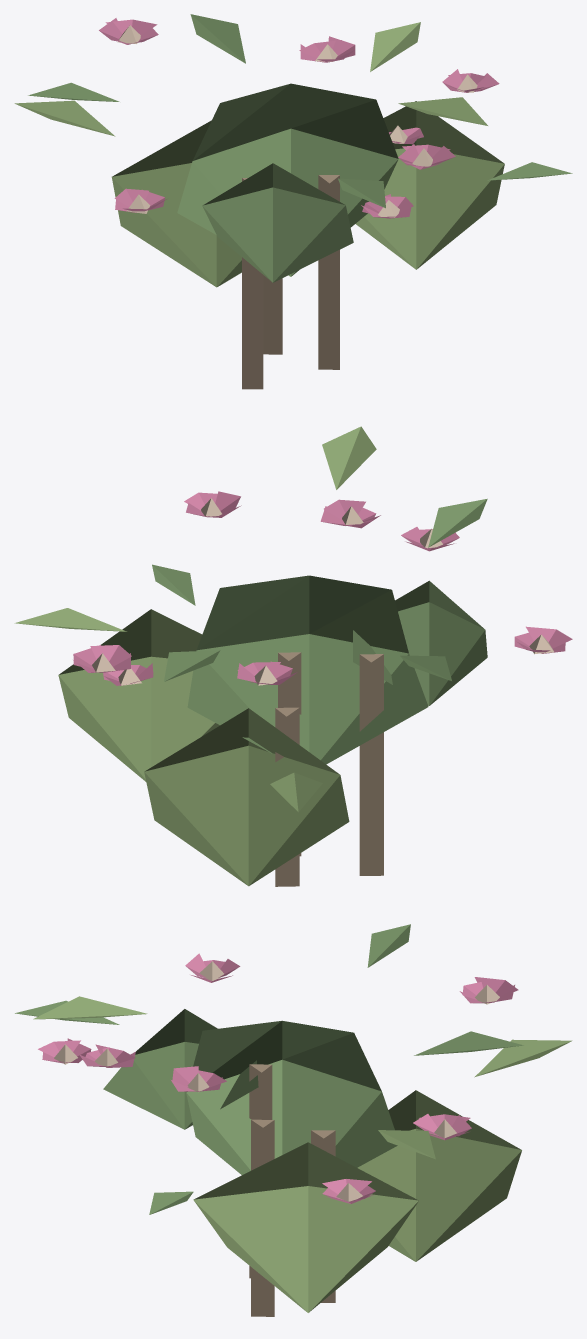
The model's file is guan.zhen@flowering__summer.glb.
The picture shows the model from 3 angles, top to bottom: view 1: azimuth 30°, elevation 25°; view 2: azimuth 150°, elevation 25°; view 3: azimuth 270°, elevation 25°; orthographic projection. The views are drawn at different scales.
Visible parts, largest first — view 1: guan.zhen@flowering__summer; view 2: guan.zhen@flowering__summer; view 3: guan.zhen@flowering__summer.
Part boxes in pixels (<box>): guan.zhen@flowering__summer: <box>14,14,572,389</box>; guan.zhen@flowering__summer: <box>14,426,572,886</box>; guan.zhen@flowering__summer: <box>15,924,572,1316</box>.
Size of the model in its own units: 2.73 by 1.93 by 2.98.
